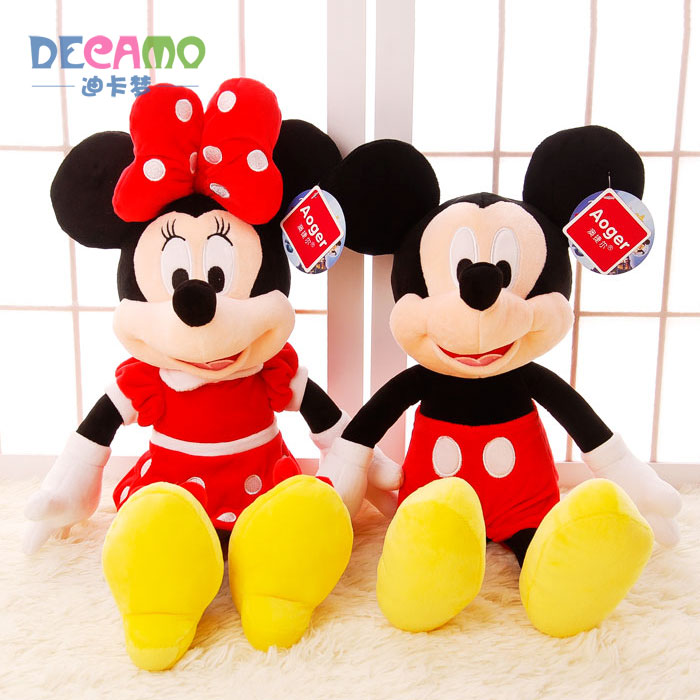Mickey: (327, 120, 643, 380)
